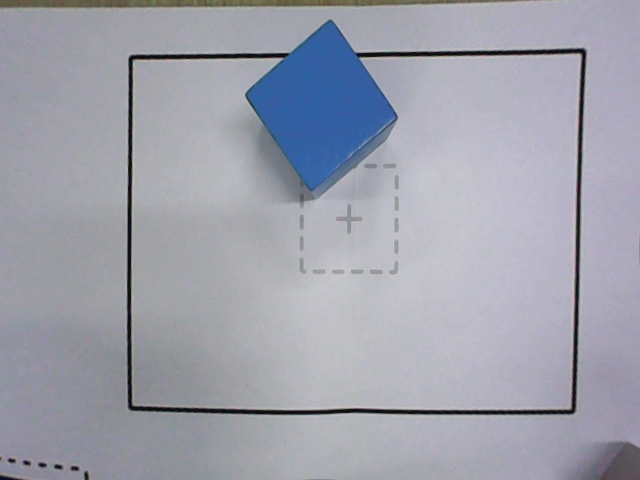upside of big cube: (244, 19, 397, 193)
